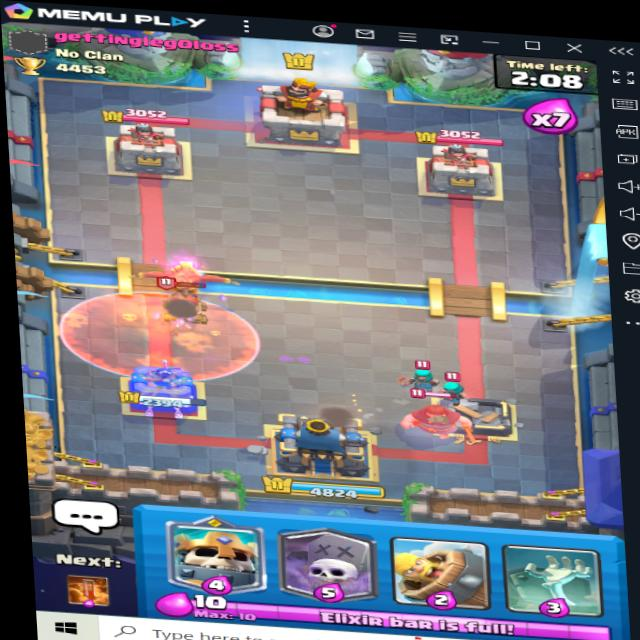cannon-cart: (163, 277, 214, 326)
rascal-boy: (404, 387, 466, 437)
rascal-girl: (406, 357, 449, 390), (436, 365, 475, 399)
